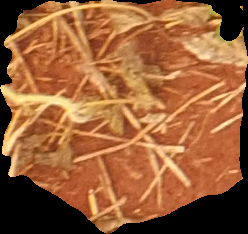soil: (2, 1, 247, 233)
